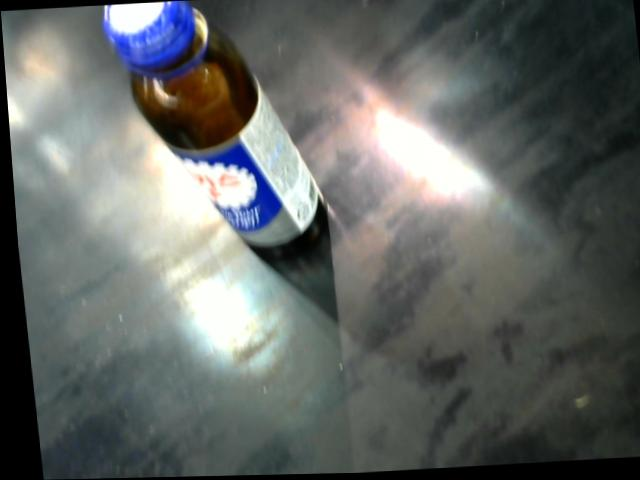glass: (95, 2, 344, 276)
